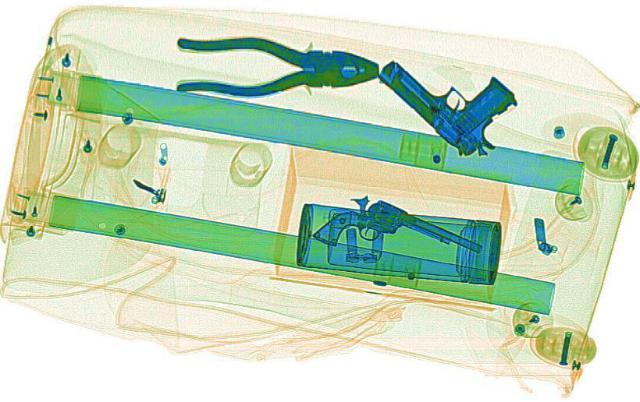Gun: (359, 36, 561, 165), (305, 191, 487, 287)
Pliers: (170, 33, 382, 98)
